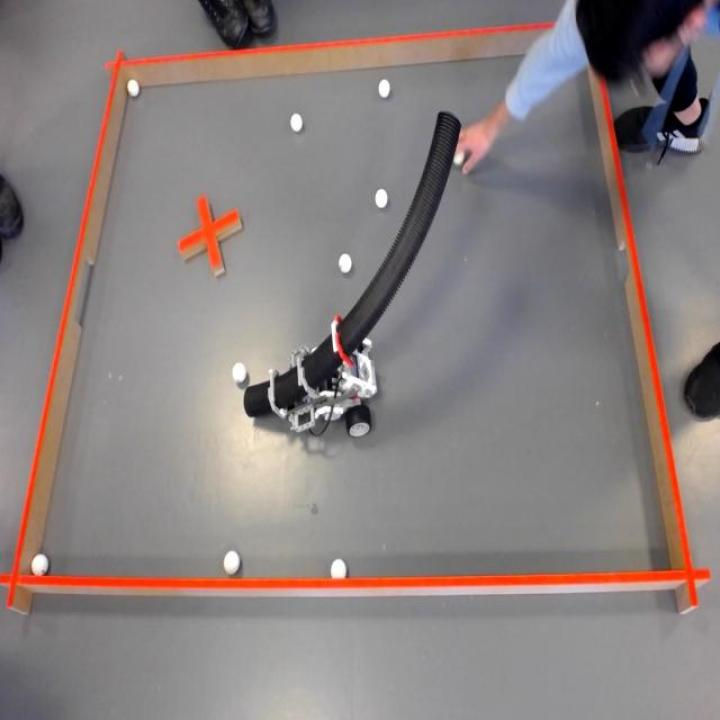robot: (239, 111, 464, 440)
white: (222, 548, 242, 576), (328, 556, 349, 580), (372, 184, 391, 210), (336, 251, 354, 277), (230, 360, 248, 385), (377, 76, 393, 102), (32, 548, 46, 576), (288, 110, 304, 133), (127, 77, 140, 99)
